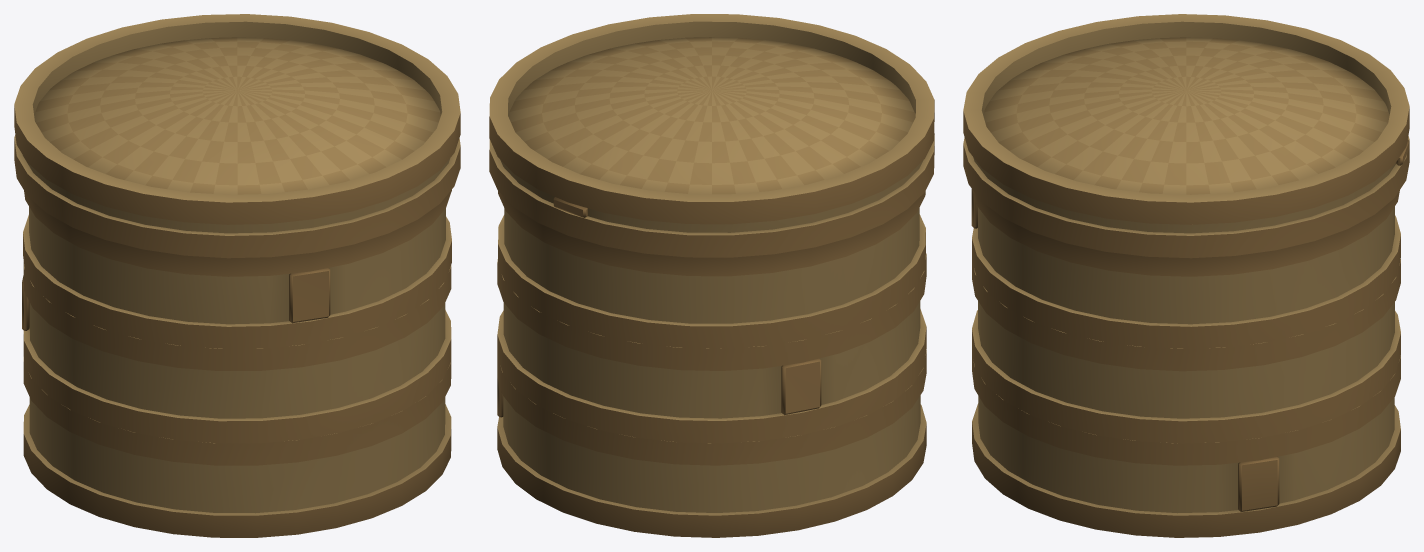
Rendered from steamer.glb.
3 views of the same model, side by side, from view 1: azimuth 30°, elevation 25°; view 2: azimuth 150°, elevation 25°; view 3: azimuth 270°, elevation 25° (orthographic).
Visible parts, largest first — view 1: steamer; view 2: steamer; view 3: steamer.
Boxes of the visible parts, bbox=[...] form: steamer: bbox=[14, 14, 460, 537]; steamer: bbox=[489, 14, 934, 537]; steamer: bbox=[963, 14, 1409, 537].
Bounding box in the file's own units: 0.3639 × 0.321 × 0.3639.
